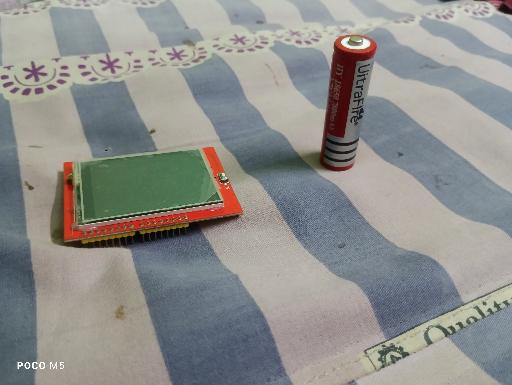Battery: (319, 33, 377, 172)
Display: (62, 146, 244, 250)
